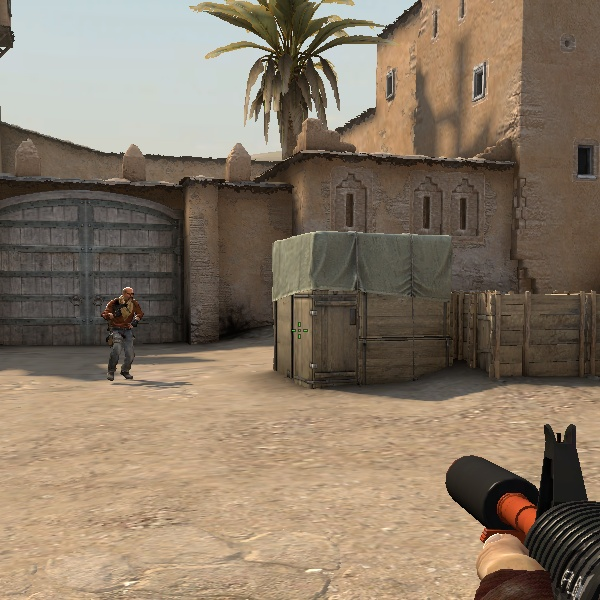t_body: (96, 286, 151, 385)
